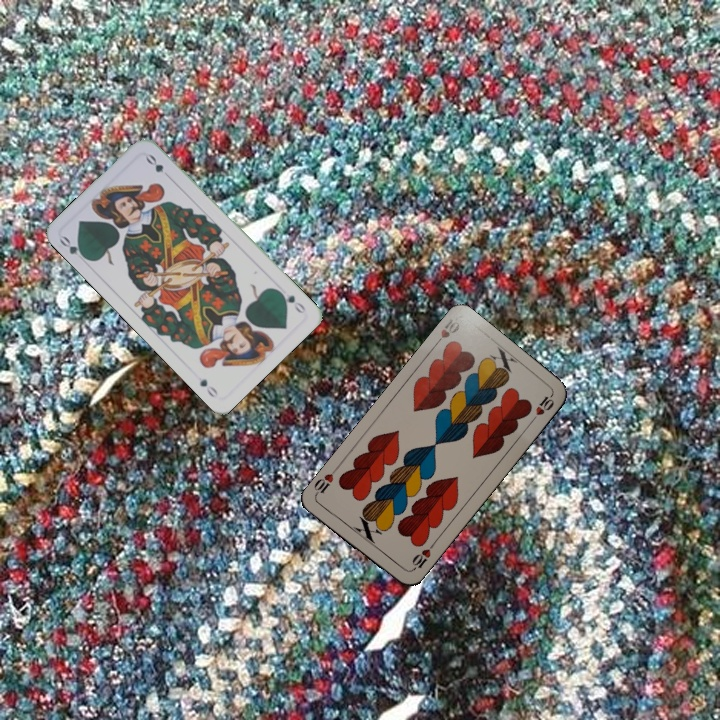GO: (55, 232, 91, 263), (274, 286, 308, 316)
H10: (429, 315, 463, 349), (407, 539, 437, 574)
